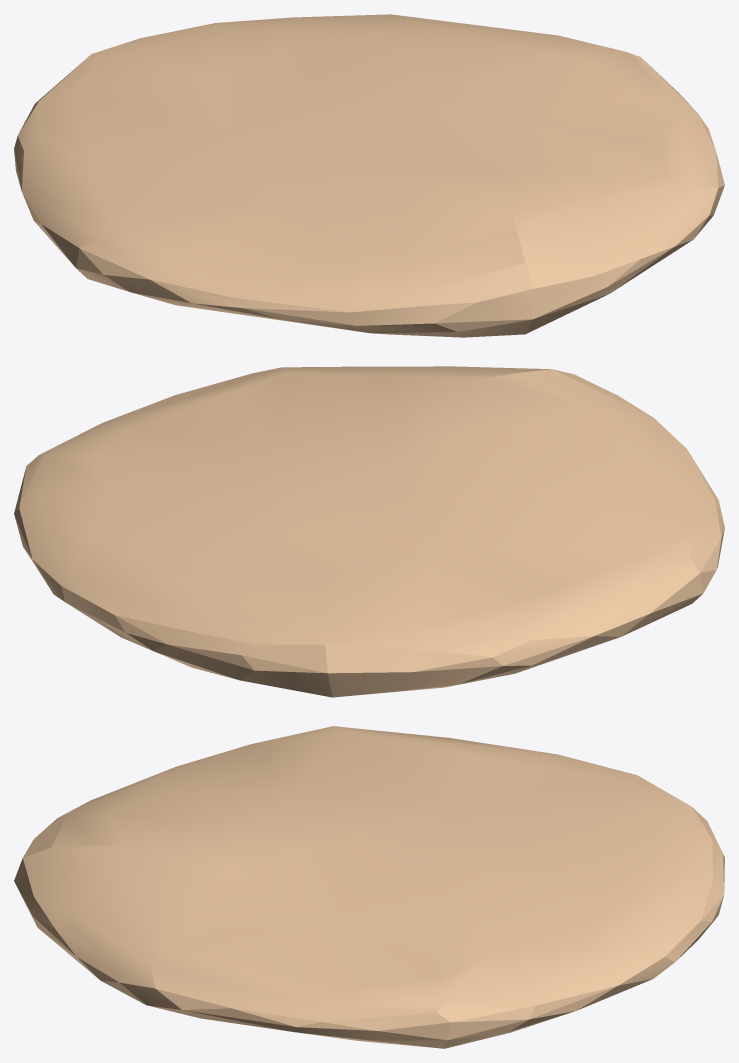
Rendered from TestIsland.fbx.
The picture shows the model from 3 angles, top to bottom: view 1: azimuth 30°, elevation 25°; view 2: azimuth 150°, elevation 25°; view 3: azimuth 270°, elevation 25°; orthographic projection. The views are drawn at different scales.
Visible parts, largest first — view 1: LowPolyRock; view 2: LowPolyRock; view 3: LowPolyRock.
Part boxes in pixels (x1,y1,x2,y2): LowPolyRock: [14, 14, 724, 337]; LowPolyRock: [14, 366, 724, 697]; LowPolyRock: [14, 726, 724, 1048].
Size of the model in its own units: 2081 by 325 by 2122.
